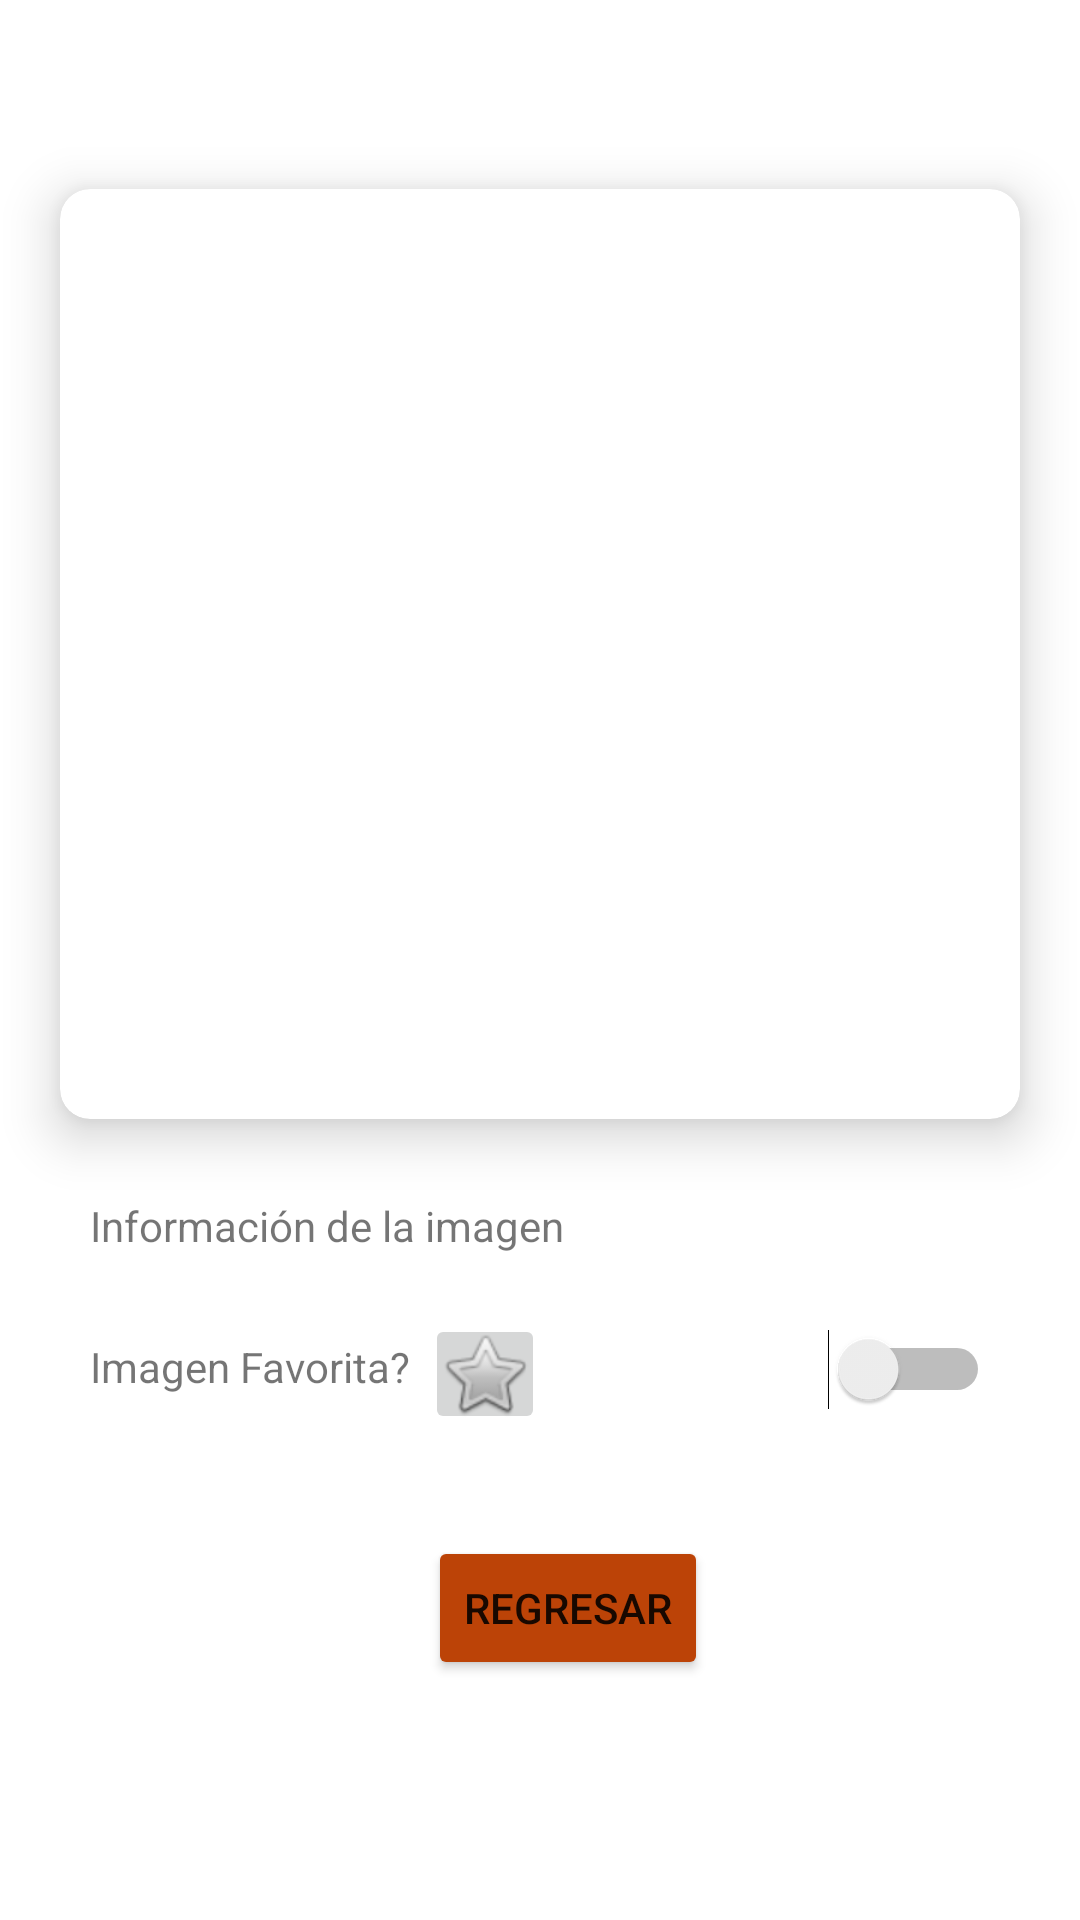

Point at icon controls on the screen. Image size 1080x1920, points as (x=x, y=y).
star: (x=485, y=1374)
